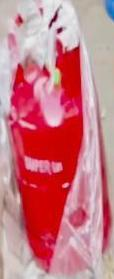cylinder: (1, 1, 114, 279)
